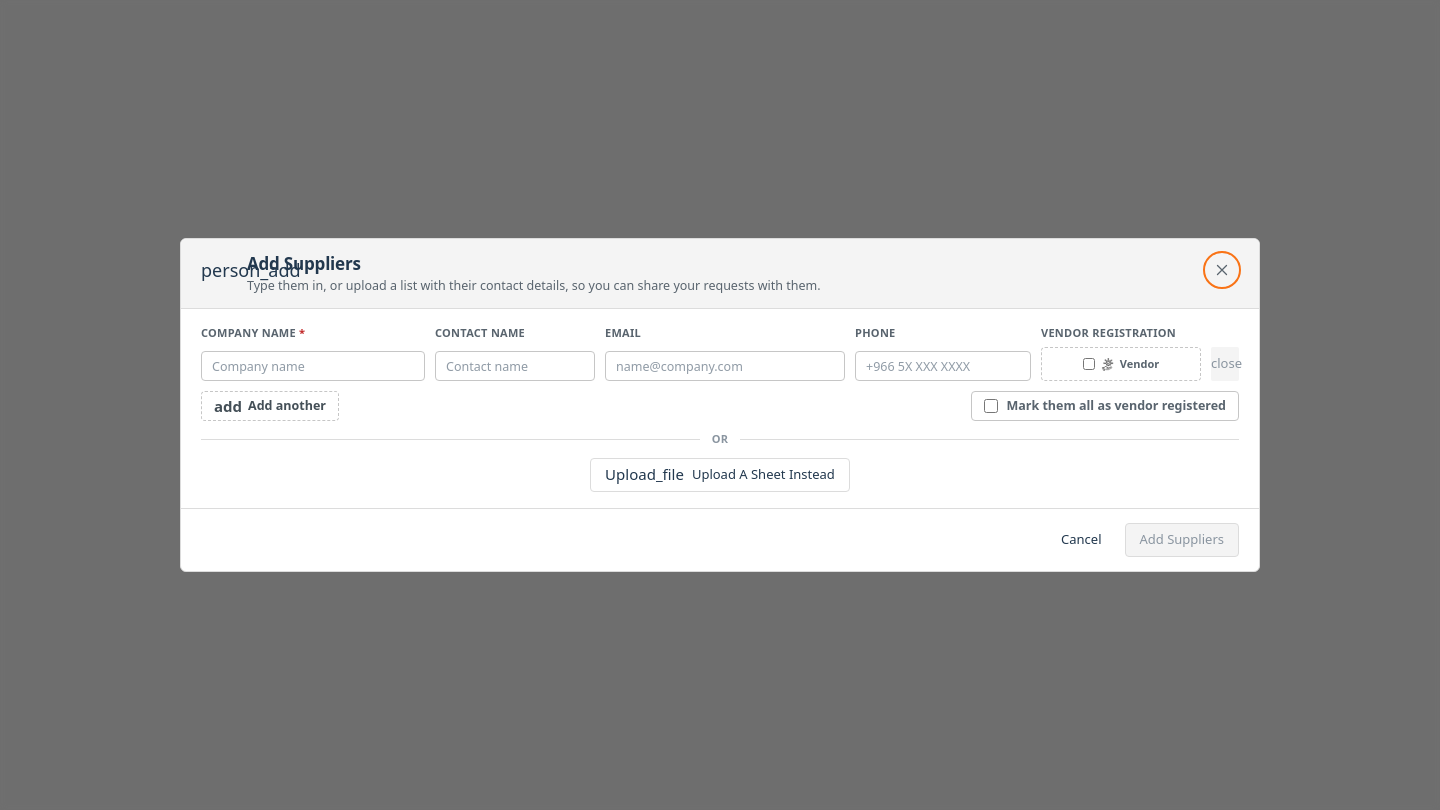
it: a row short of the rule says so, instead of vanishing › clears the note the moment the row is complete
Type "Zahid Tractor" into the field with placeholder "Company name" at (313, 366), box left=201, top=351, right=425, bottom=381
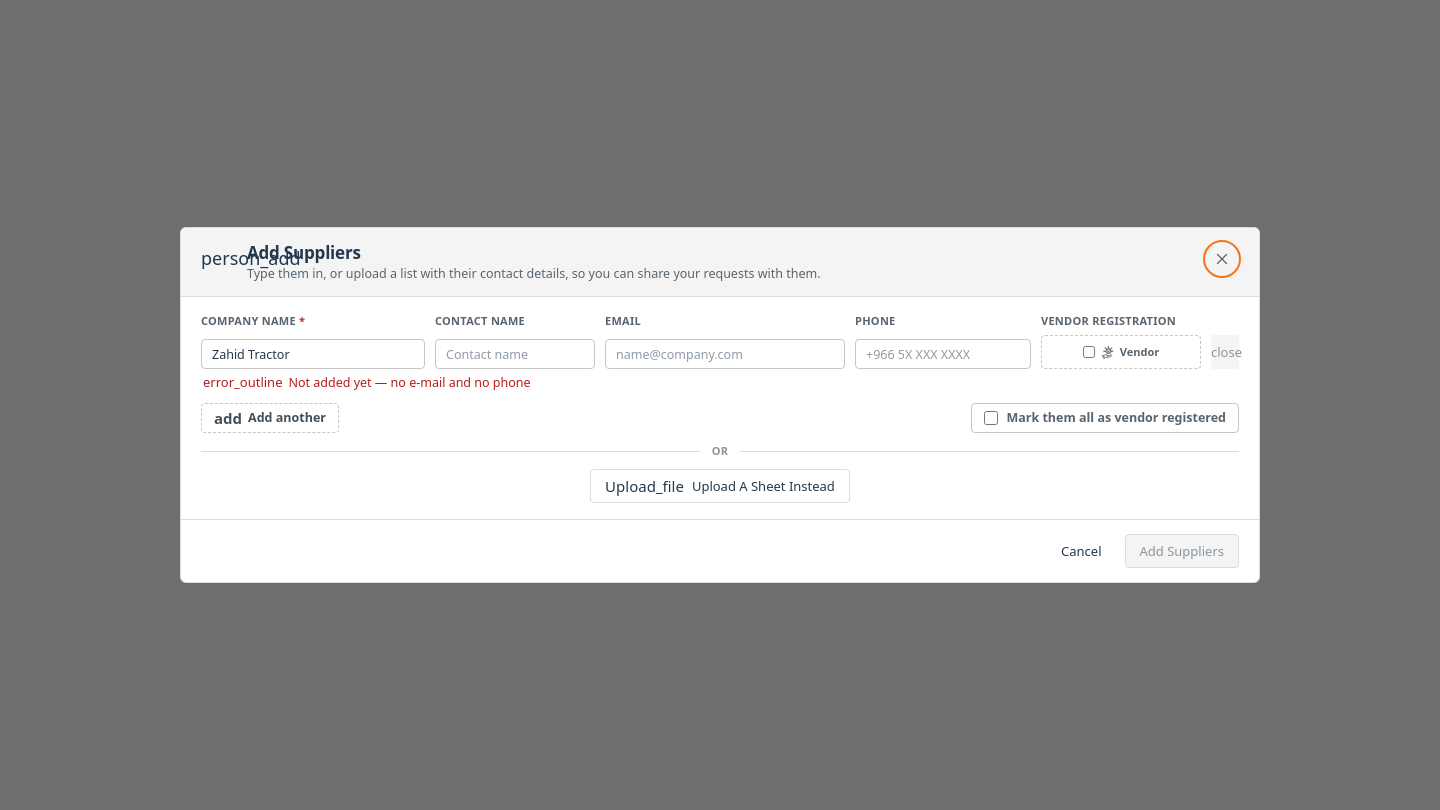
Result: the text "error_outline Not added yet — no e-mail and no phone" is shown at left=203, top=374, right=531, bottom=392
Type "0503372850" into the field with placeholder "+966 5X XXX XXXX" at (943, 354), box left=855, top=340, right=1031, bottom=370
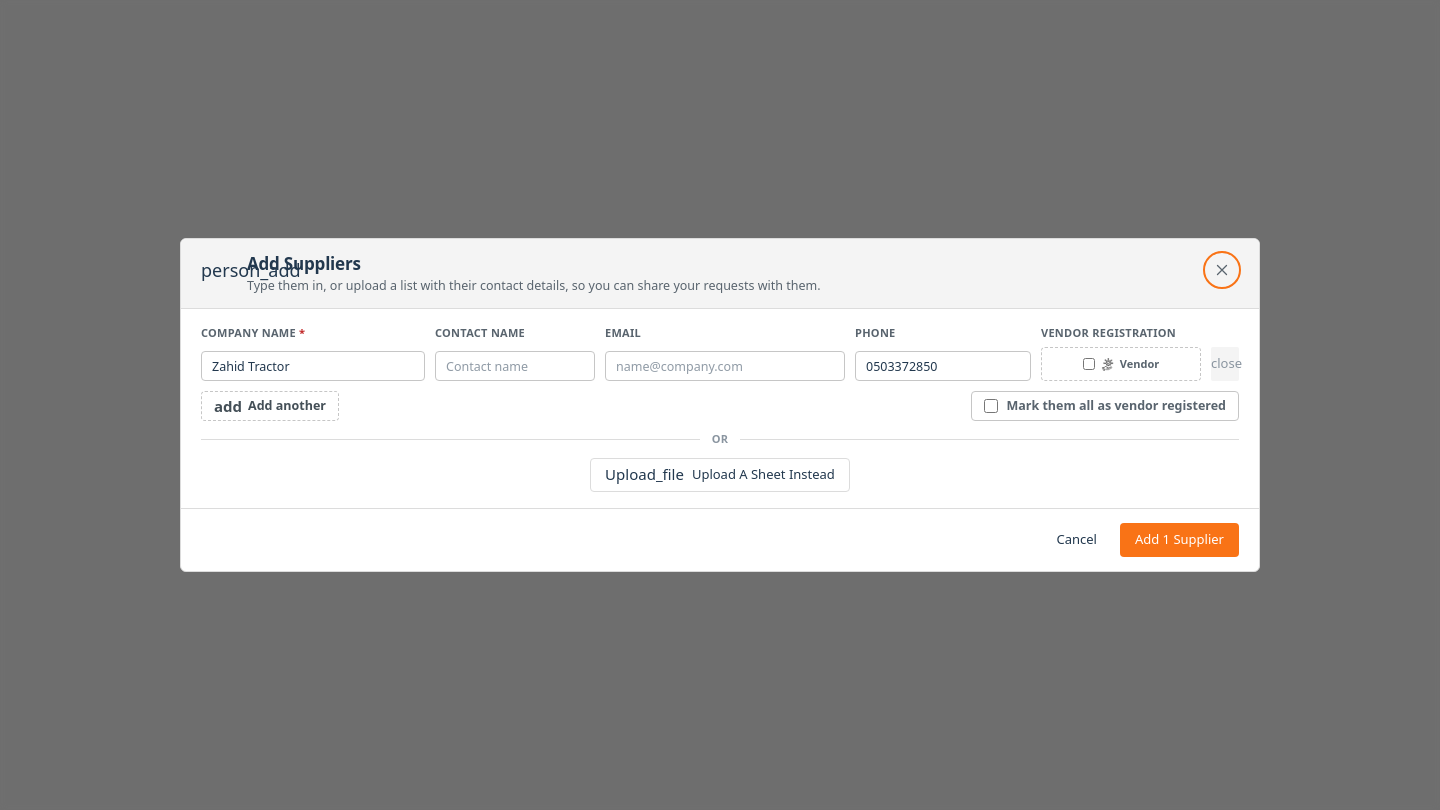
Result: the text "no e-mail and no phone" is gone
